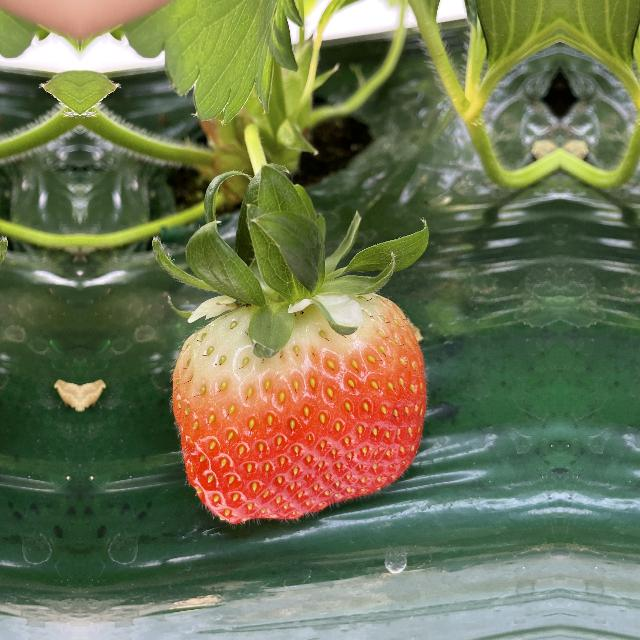Health_100: (174, 282, 430, 528)
